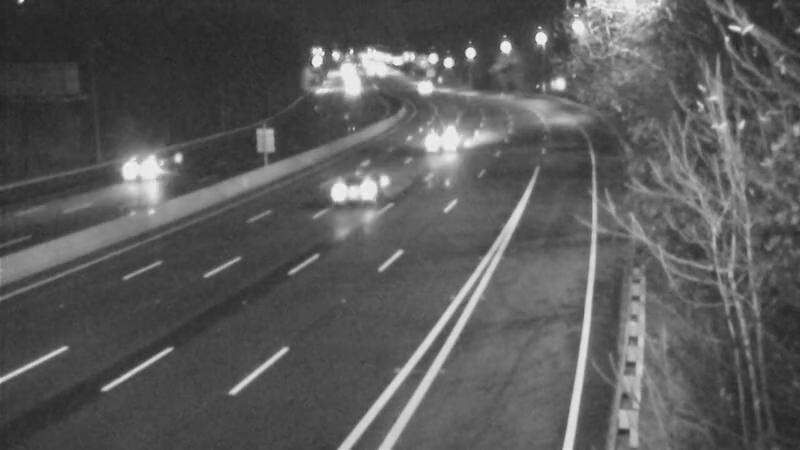vehicle: (313, 143, 393, 223), (104, 126, 184, 206), (398, 60, 448, 110), (414, 117, 464, 167)
